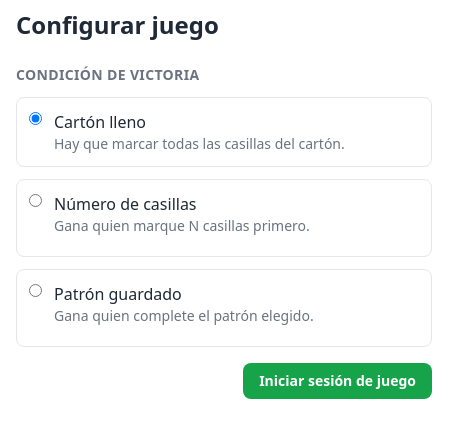
ConfiguracionJuego › al seleccionar n_marcados muestra el input numérico
Step 1. Click the radio button labelled "Número de casillas Gana quien marque N casillas primero." → [36, 200], box [29,194,42,207]
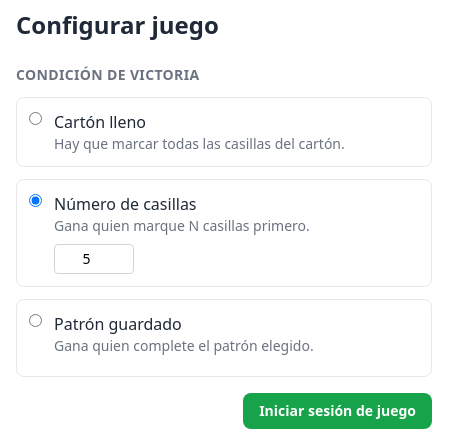
Now the number field named "número de casillas" is shown, box [54,244,134,274]
